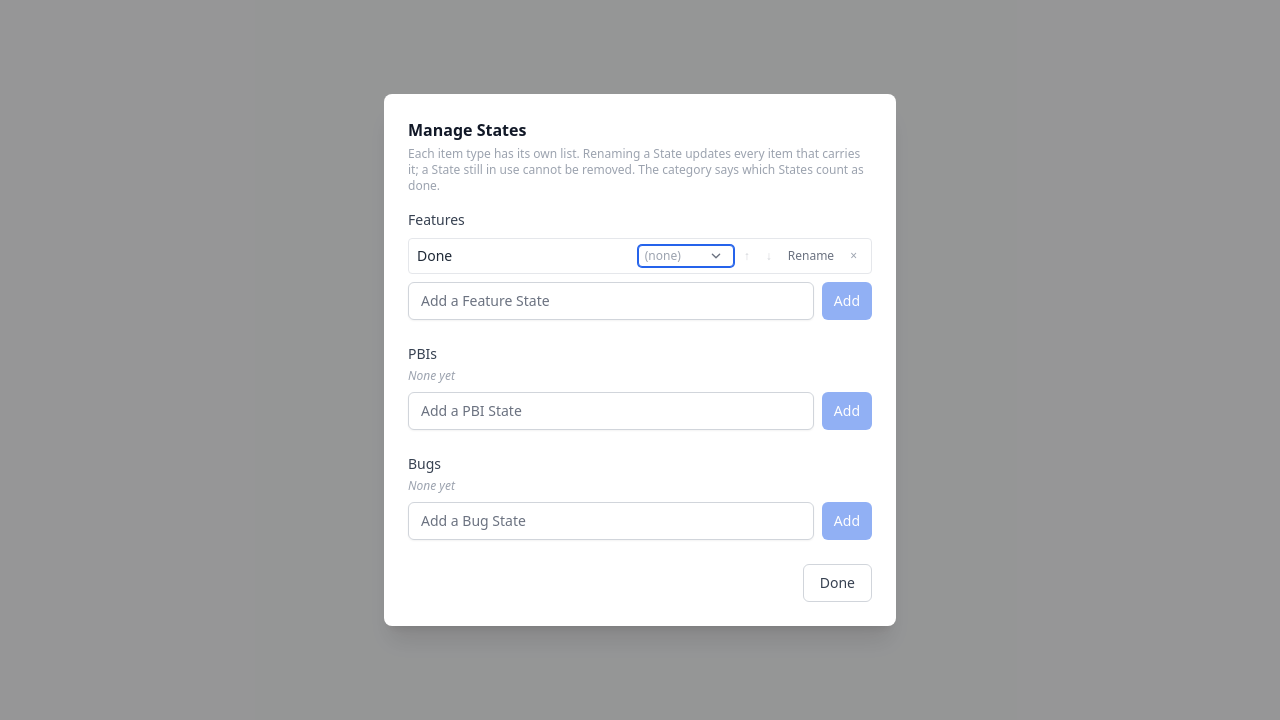
Test: ProjectStatesModal › category › reports the backend message when the category cannot be saved
Select "done" in the dropdown named "Category of Done" at (686, 256), box [638,245,734,267]
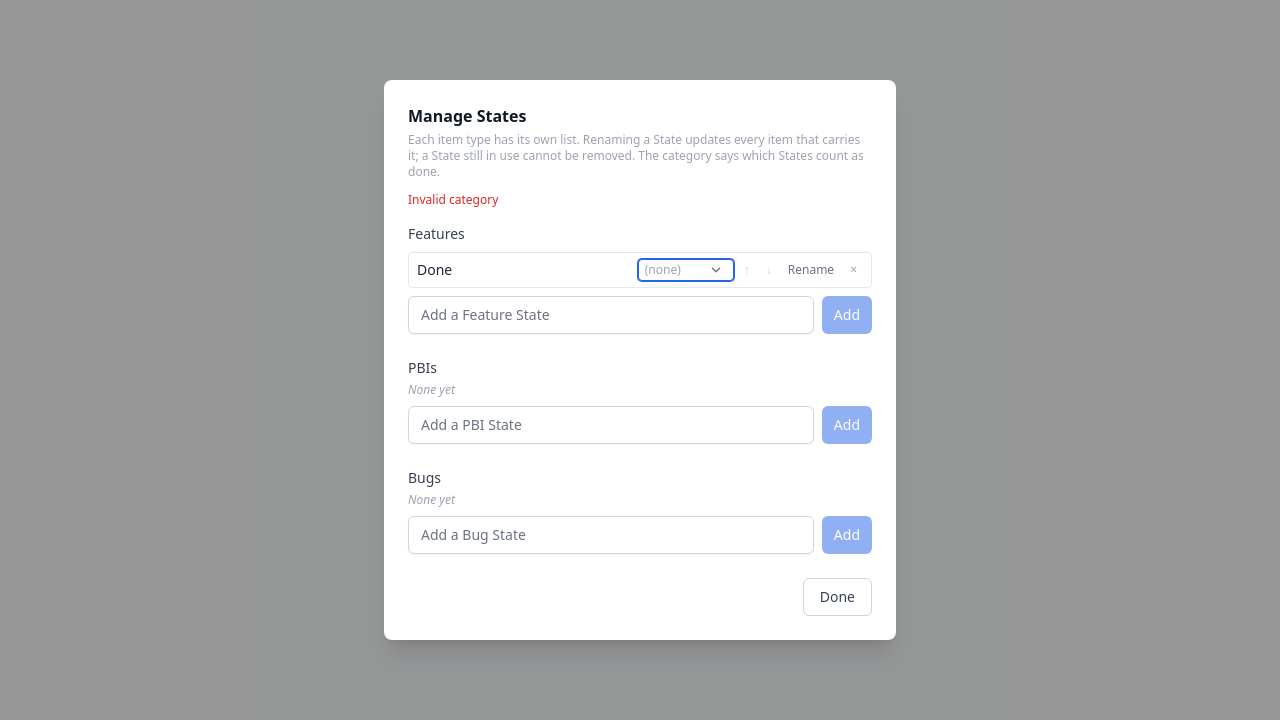
Now the message reads "Invalid category", box [408,191,498,208]
